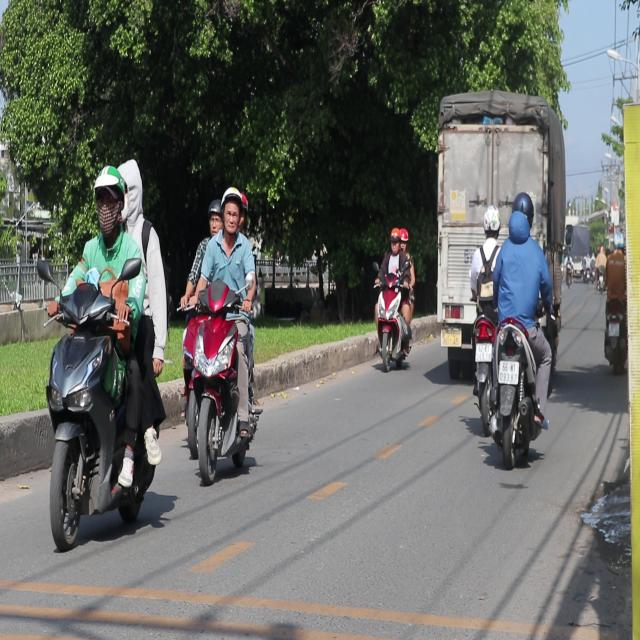helmet: (91, 165, 125, 236), (116, 159, 144, 231), (219, 186, 244, 237), (509, 192, 534, 238), (482, 202, 500, 236), (206, 199, 222, 234)
licenseplate: (39, 162, 170, 548), (178, 185, 264, 485), (490, 186, 556, 464), (467, 202, 504, 439)
nohelmet: (498, 361, 518, 384), (475, 343, 491, 362)
